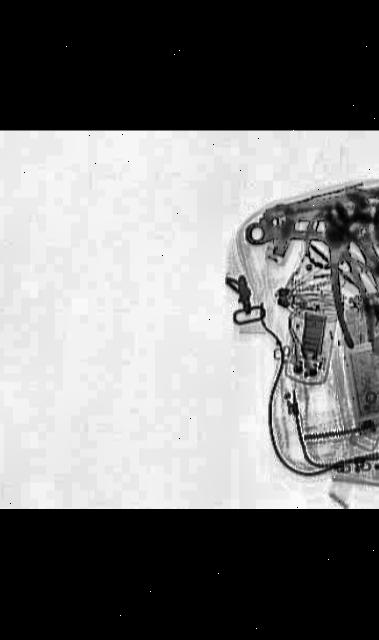Pliers: (311, 212, 379, 349)
Wrench: (316, 186, 379, 353), (242, 220, 379, 249), (269, 203, 379, 228)
